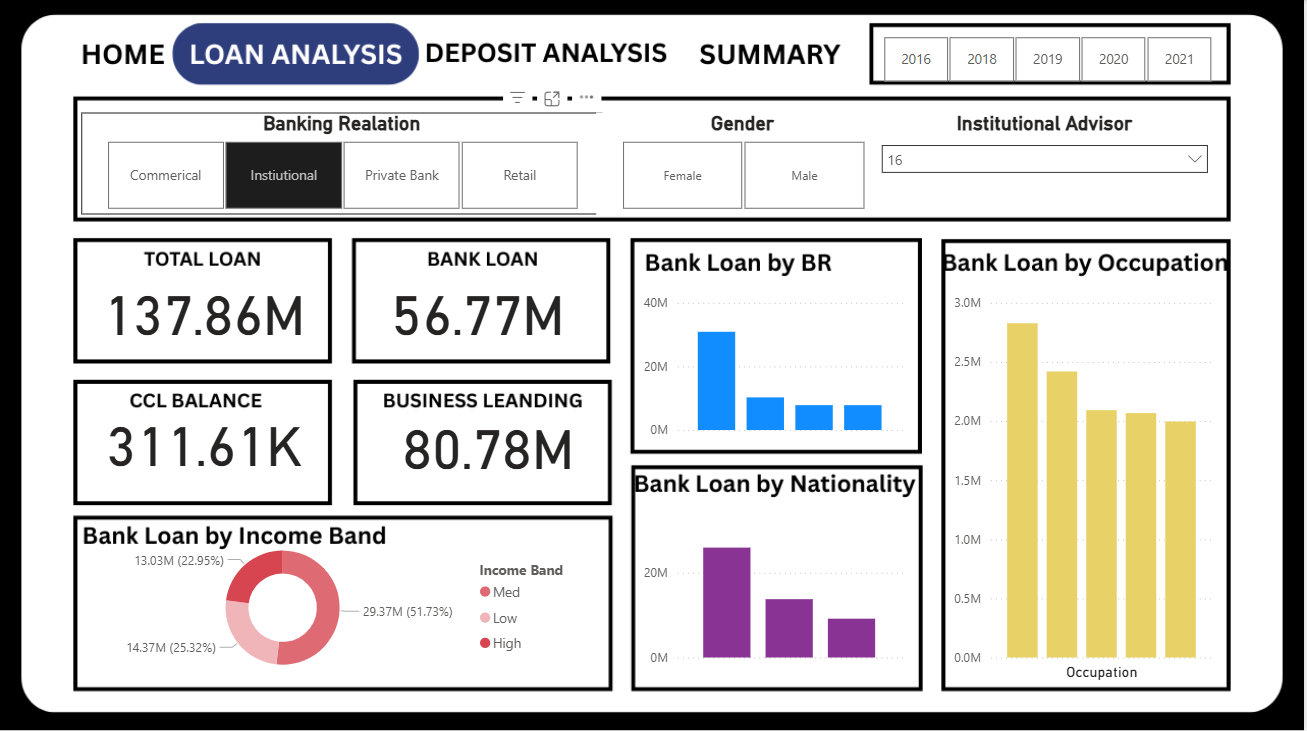

The dashboard page shown, as its layout file describes it:
{"tool":"powerbi","page":{"name":" LOAN ANA","canvas":[1280,720],"ordinal":1},"visuals":[{"type":"slicer","title":"JOINING YEAR","fields":{"Values":["Banking_Clients.Joined Bank.Variation.Date Hierarchy.Year"]},"box":[841.4,30,371.4,57.1],"z":0},{"type":"actionButton","box":[67.1,30,101.4,45.7],"z":1},{"type":"actionButton","box":[412.9,30,245.7,45.7],"z":2},{"type":"actionButton","box":[680,30,151.4,45.7],"z":3},{"type":"card","title":"TOTAL LOAN","fields":{"Values":["Banking_Clients.Total_Loan"]},"box":[77.1,282.9,247.1,60],"z":4},{"type":"card","title":"TOTAL LOAN","fields":{"Values":["Sum(Banking_Clients.Bank Loans)"]},"box":[344.3,282.9,247.1,61.4],"z":5},{"type":"card","title":"TOTAL LOAN","fields":{"Values":["Sum(Banking_Clients.Credit Card Balance)"]},"box":[77.1,410,247.1,65.7],"z":6},{"type":"card","title":"TOTAL LOAN","fields":{"Values":["Sum(Banking_Clients.Business Lending)"]},"box":[355.7,414.3,247.1,61.4],"z":7},{"type":"donutChart","fields":{"Category":["Banking_Clients.Income Band"],"Y":["Sum(Banking_Clients.Bank Loans)"]},"box":[80,520,495.7,152.9],"z":8},{"type":"clusteredColumnChart","fields":{"Category":["Banking_Clients.BRId"],"Y":["Sum(Banking_Clients.Bank Loans)"]},"box":[627.1,282.9,264.3,152.9],"z":9},{"type":"clusteredColumnChart","fields":{"Y":["Sum(Banking_Clients.Bank Loans)"],"Category":["Banking_Clients.Nationality"]},"box":[627.1,507.1,264.3,152.9],"z":10},{"type":"clusteredColumnChart","fields":{"Y":["Sum(Banking_Clients.Bank Loans)"],"Category":["Banking_Clients.Occupation"]},"box":[931.4,282.9,264.3,390],"z":11},{"type":"slicer","title":"Banking Realation","fields":{"Values":["Banking_Clients.BRId"]},"box":[80,110,511.4,101.4],"z":12},{"type":"slicer","title":"Gender","fields":{"Values":["Banking_Clients.GenderId"]},"box":[585.7,110,287.1,101.4],"z":13},{"type":"slicer","title":"Institutional Advisor","fields":{"Values":["Banking_Clients.IAId"]},"box":[855.7,110,340,101.4],"z":14}]}

Visuals, with their boxes in screenshot pixels (x1, y1, x2, y2), scaled from the page's 1280x720 canvas onto the 1307x731 screenshot:
"JOINING YEAR" slicer: [859, 30, 1238, 88]
actionButton: [69, 30, 172, 77]
actionButton: [422, 30, 672, 77]
actionButton: [694, 30, 849, 77]
"TOTAL LOAN" card: [79, 287, 331, 348]
"TOTAL LOAN" card: [352, 287, 604, 350]
"TOTAL LOAN" card: [79, 416, 331, 483]
"TOTAL LOAN" card: [363, 421, 616, 483]
donutChart - Banking_Clients.Income Band x Sum(Banking_Clients.Bank Loans): [82, 528, 588, 683]
clusteredColumnChart - Banking_Clients.BRId x Sum(Banking_Clients.Bank Loans): [640, 287, 910, 442]
clusteredColumnChart - Sum(Banking_Clients.Bank Loans) x Banking_Clients.Nationality: [640, 515, 910, 670]
clusteredColumnChart - Sum(Banking_Clients.Bank Loans) x Banking_Clients.Occupation: [951, 287, 1221, 683]
"Banking Realation" slicer: [82, 112, 604, 215]
"Gender" slicer: [598, 112, 891, 215]
"Institutional Advisor" slicer: [874, 112, 1221, 215]
